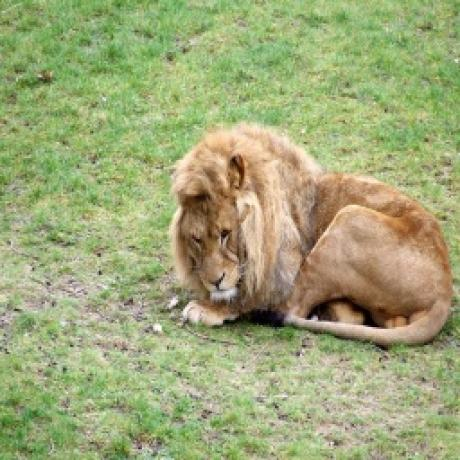Lion: (168, 117, 453, 354)
